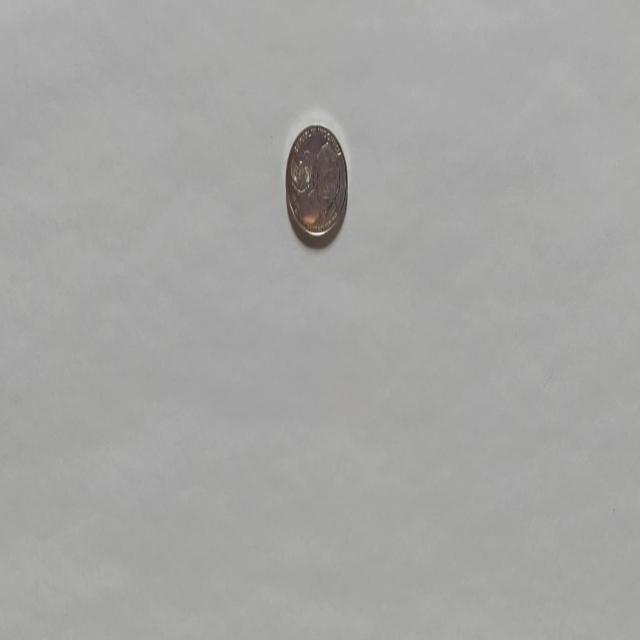dua ratus rupiah: (284, 122, 348, 246)
